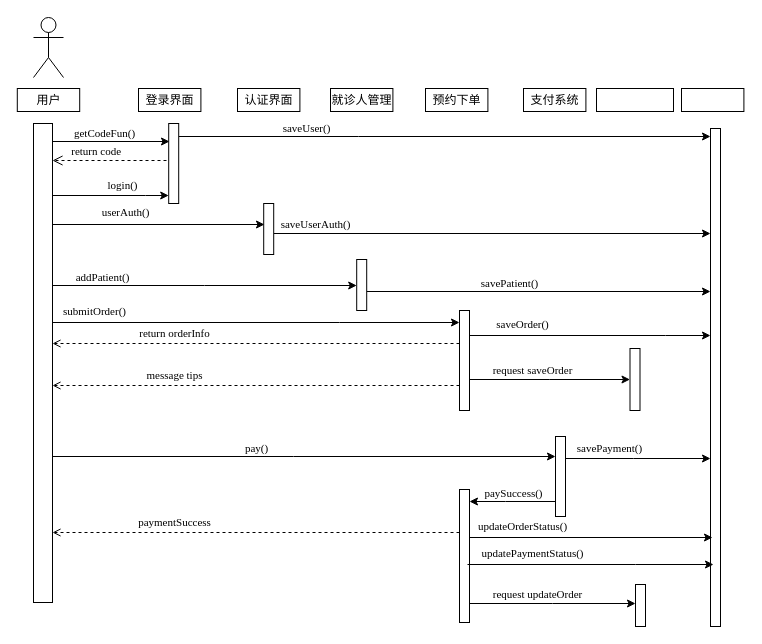
The diagram is 762 pixels wide and 644 high, and some of its shapes have lost their labels. The shapes that lost their labels are listed below. From the top down, each one's box as (x1, y1, x2, y2) in pixels, then its label:
(596, 88, 674, 112): 就诊医院后台
(680, 88, 744, 112): 数据库
